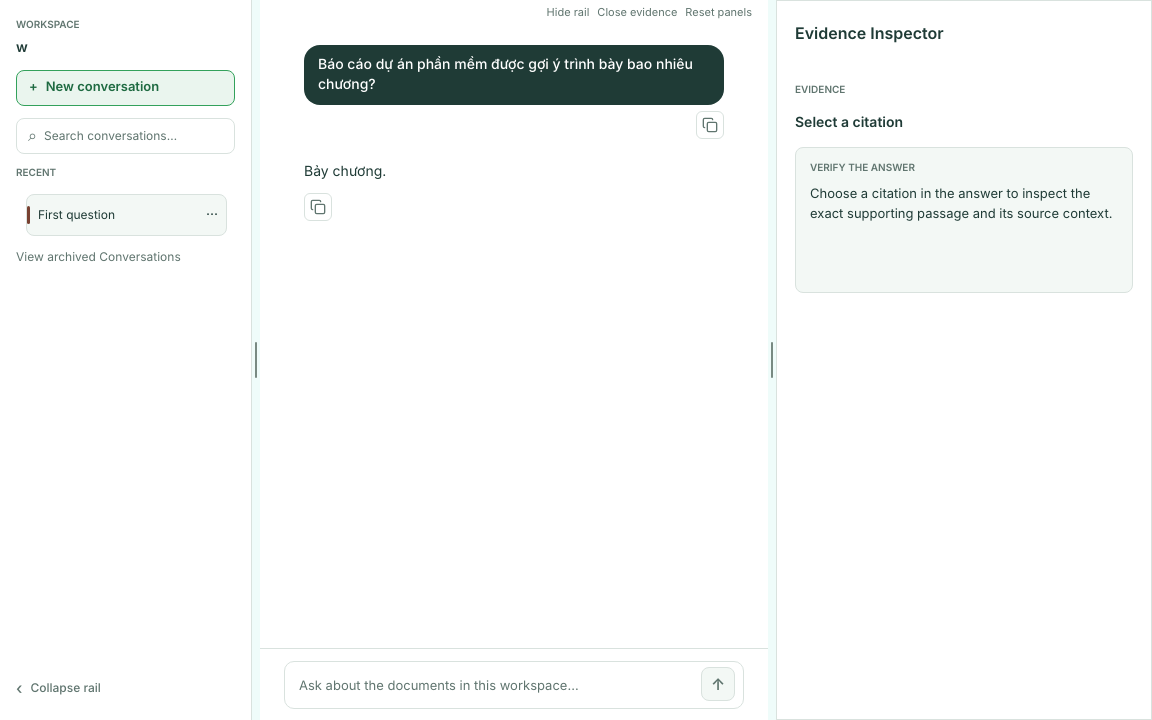
smoke feedback › submits a specific Vietnamese follow-up unchanged in the current conversation
Expected: the list item with aria-label "Question 1" is shown, top-left (304, 45), bottom-right (724, 221)
In the text box named "Question": x=496, y=686 top-left (299, 664), bottom-right (693, 708), type "Theo Guide, báo cáo dự án phần mềm được gợi ý trình bày bao nhiêu chương?"
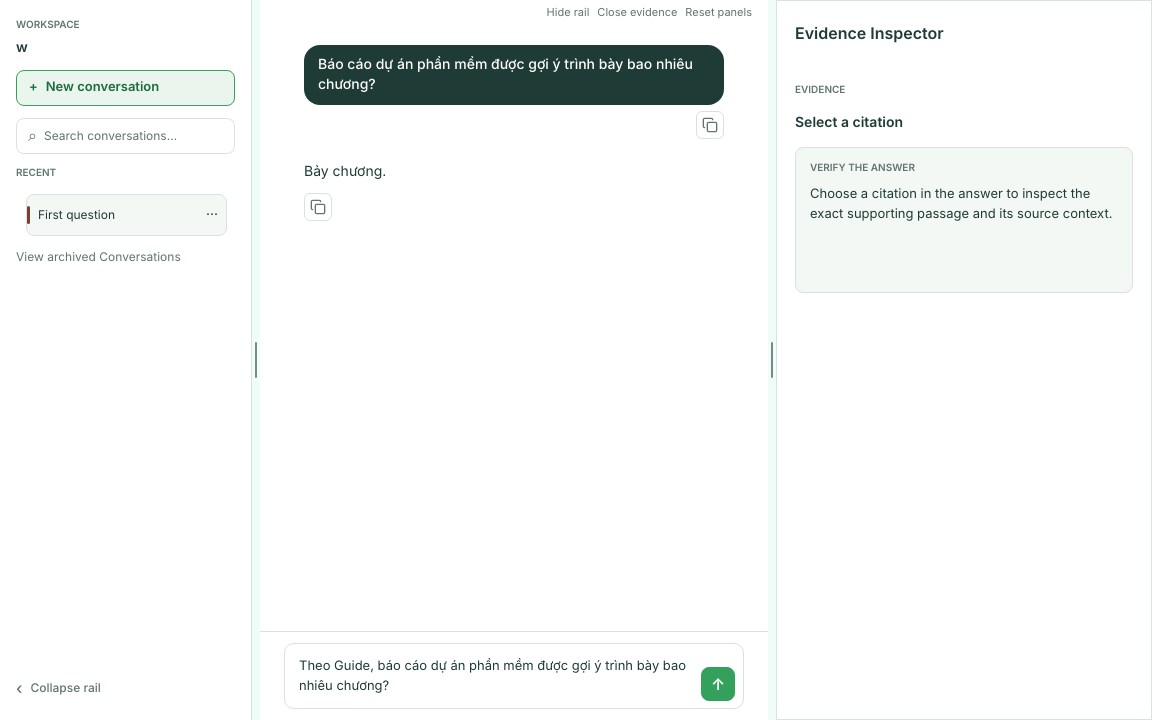
Click the button named "Ask": x=718, y=684 top-left (701, 667), bottom-right (735, 701)
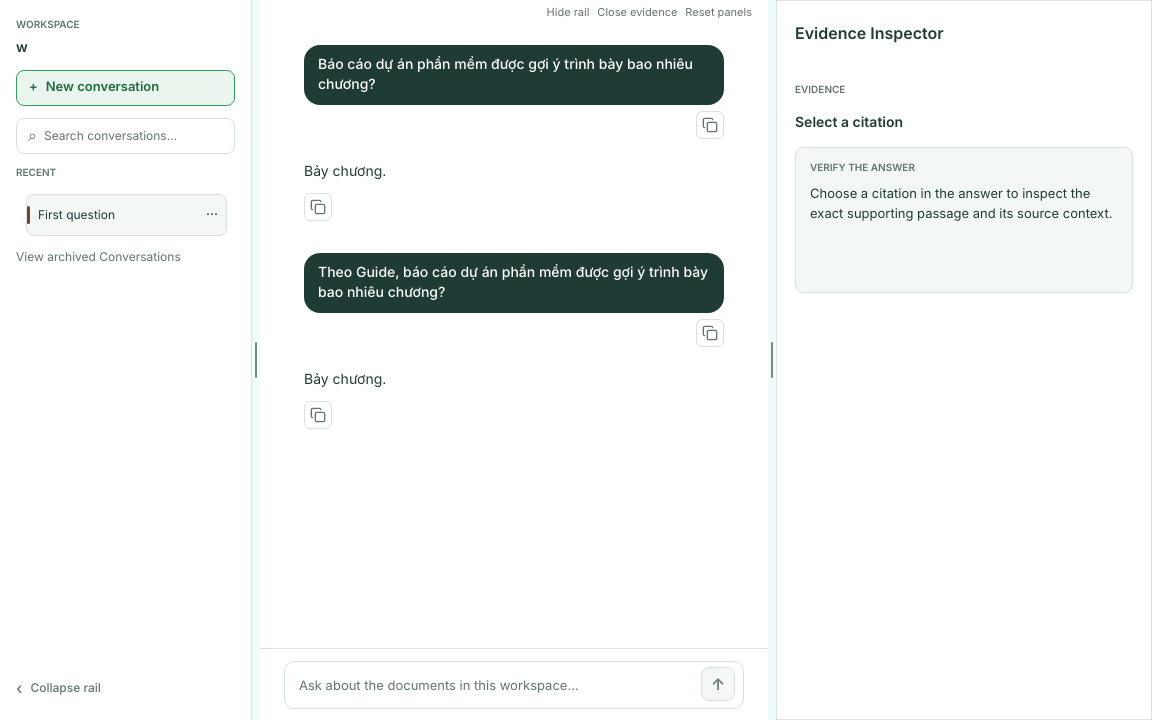
Now the text "Theo Guide, báo cáo dự án phần mềm được gợi ý trình bày bao nhiêu chương?" is shown, box top-left (304, 253), bottom-right (724, 313)
